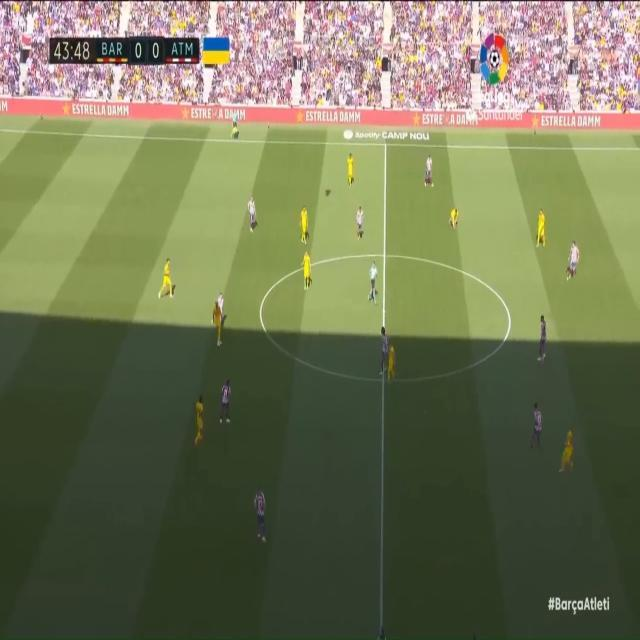ball: (214, 340, 221, 351)
player: (249, 482, 271, 546), (524, 399, 544, 460), (379, 323, 396, 376), (195, 386, 211, 440), (566, 419, 581, 473), (384, 341, 399, 394), (536, 315, 551, 367), (158, 256, 173, 307), (209, 297, 224, 347), (214, 275, 231, 318), (219, 379, 234, 426), (565, 235, 579, 284), (296, 201, 309, 247), (536, 204, 549, 250), (242, 192, 255, 235), (303, 248, 315, 291), (423, 150, 434, 191), (351, 201, 363, 238), (346, 151, 357, 189), (448, 200, 459, 232)
referee: (365, 258, 381, 304), (231, 106, 241, 143)
